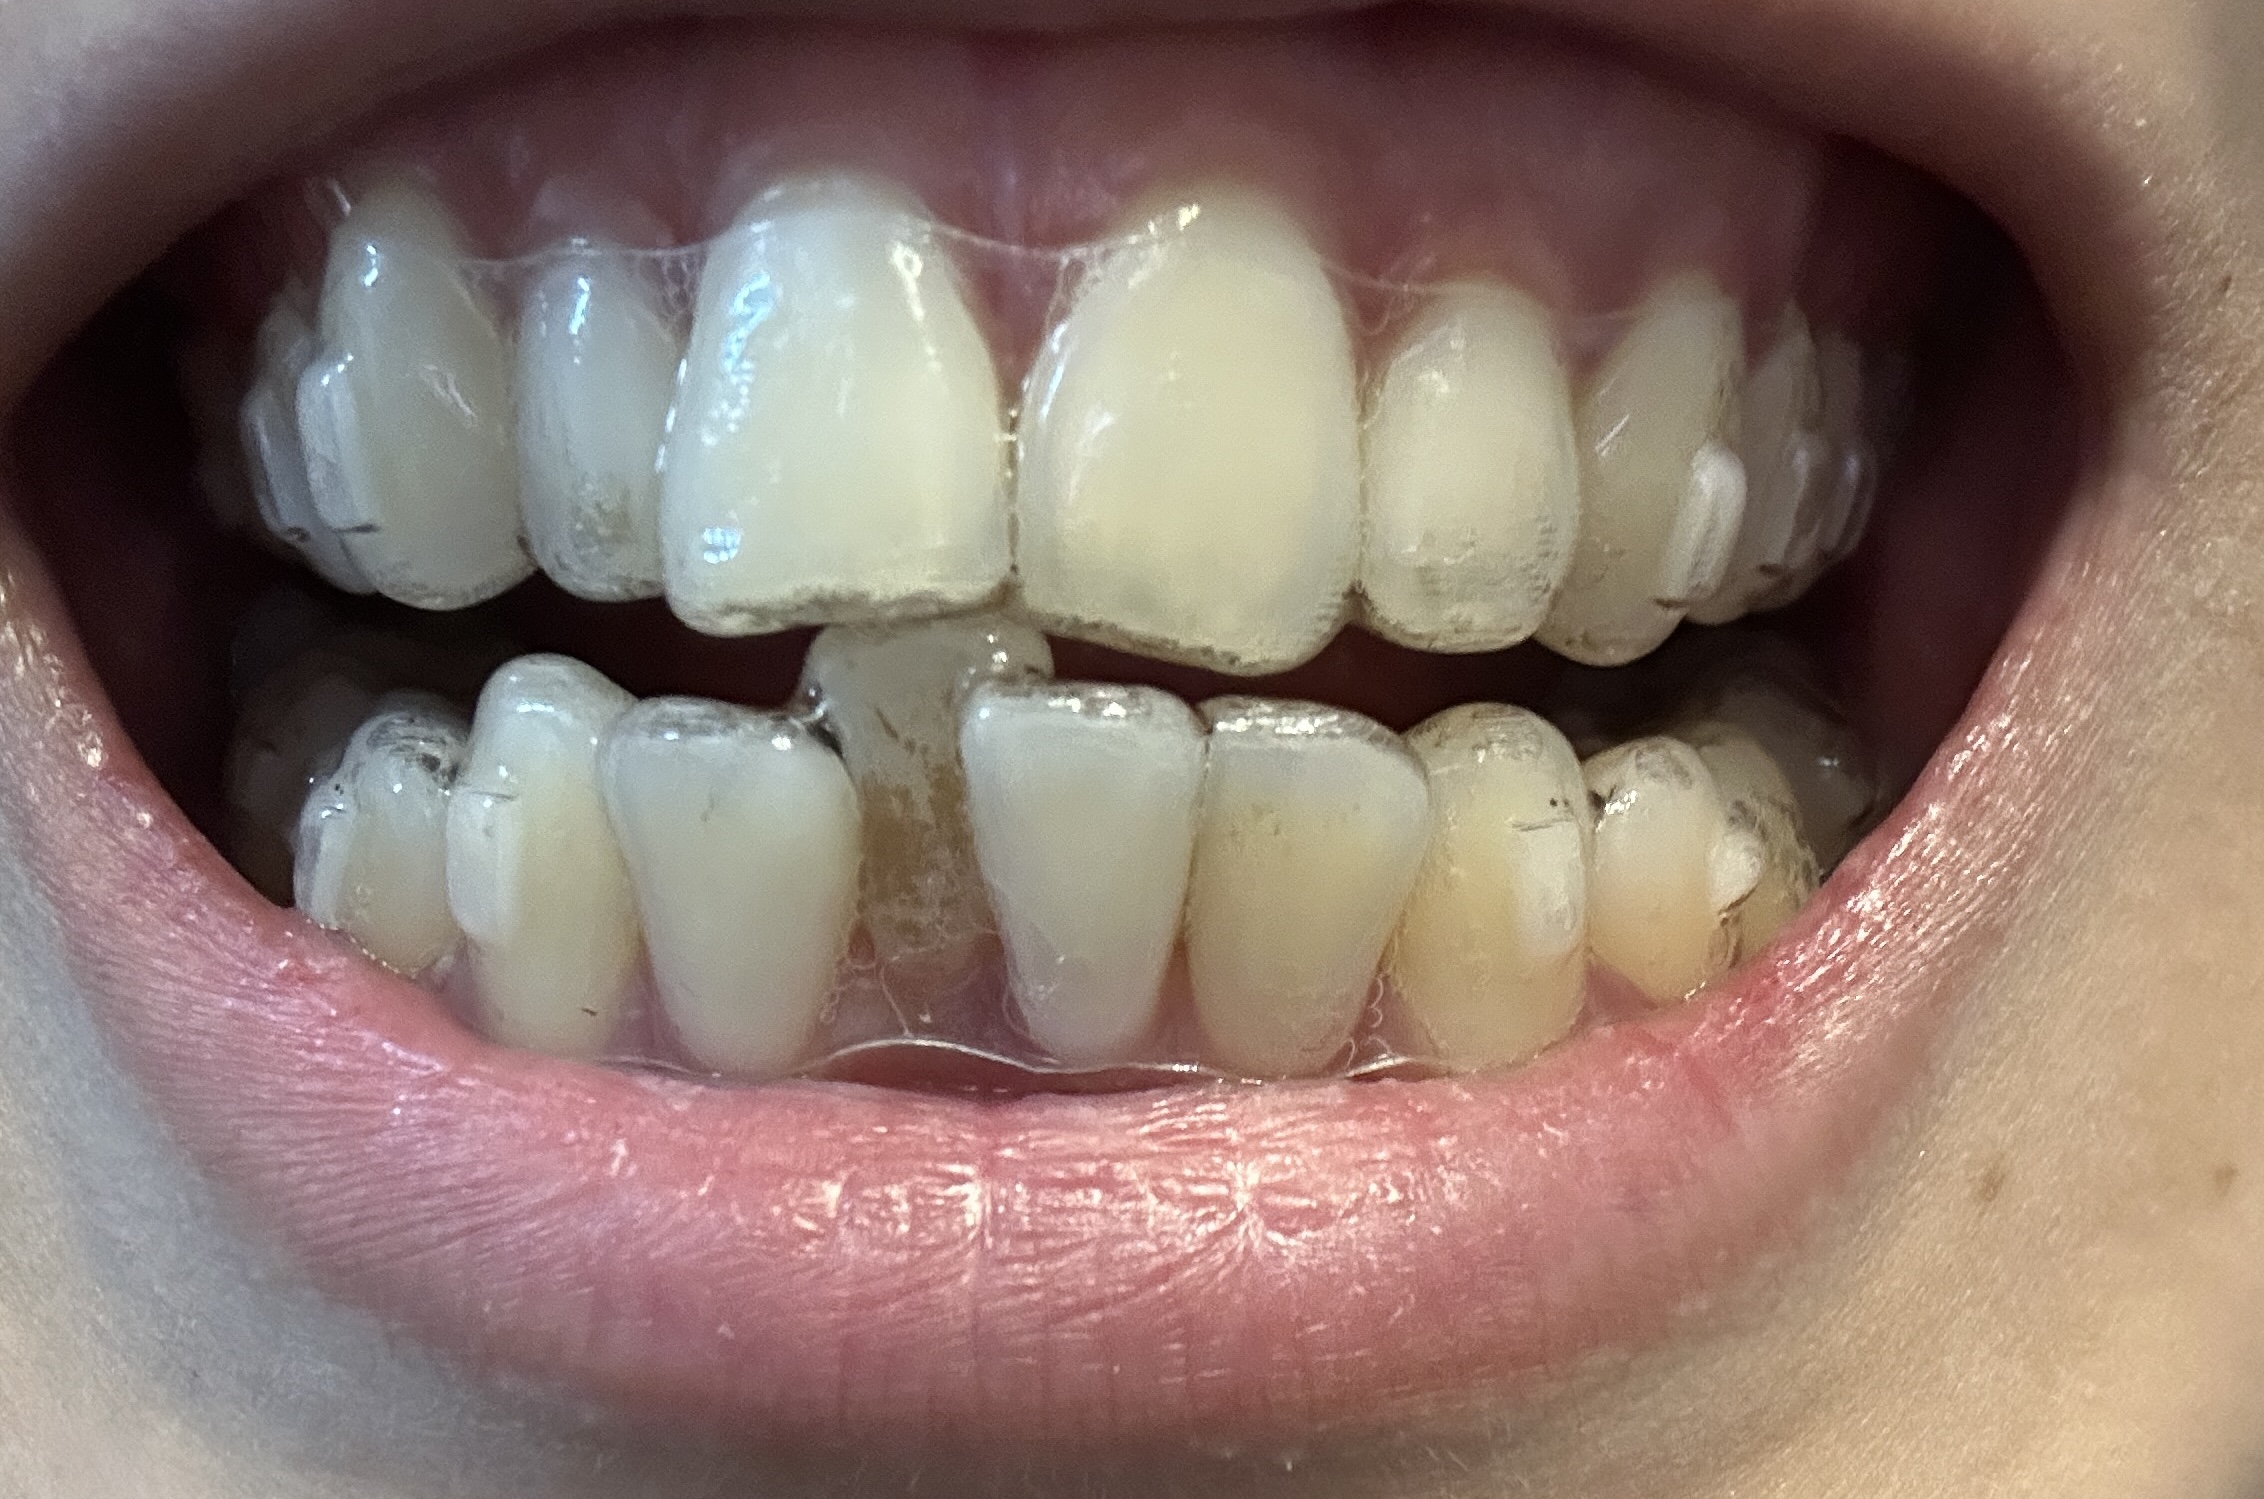teeth: (1015, 179, 1344, 663), (682, 159, 1012, 626), (975, 683, 1209, 1072), (1395, 686, 1600, 1089), (615, 709, 829, 1072), (1366, 261, 1570, 641), (826, 622, 1048, 970), (326, 187, 508, 609), (1199, 709, 1428, 1031), (1578, 266, 1751, 644), (458, 641, 620, 1039), (545, 214, 692, 609), (288, 684, 460, 975), (216, 296, 365, 624), (1729, 311, 1853, 624), (1607, 760, 1741, 1014), (1717, 728, 1814, 954), (1732, 674, 1878, 800)
